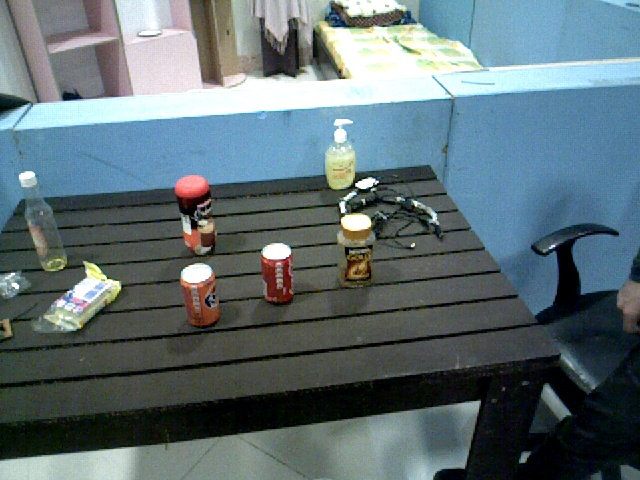coca: (261, 243, 295, 306)
coffee: (339, 214, 377, 289)
cream: (177, 175, 220, 257)
fanta: (182, 264, 221, 328)
